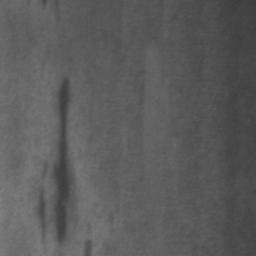Inclusion: (54, 78, 70, 241)
